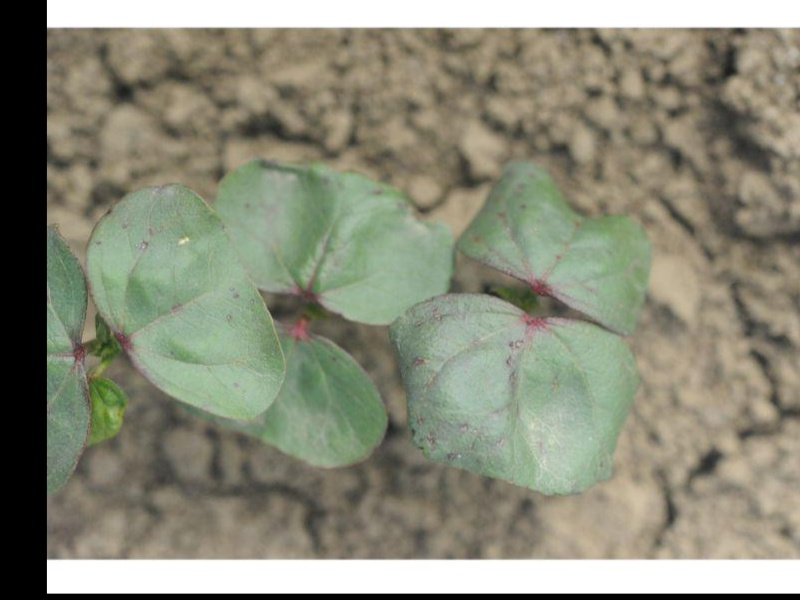cotton: (50, 155, 650, 496)
